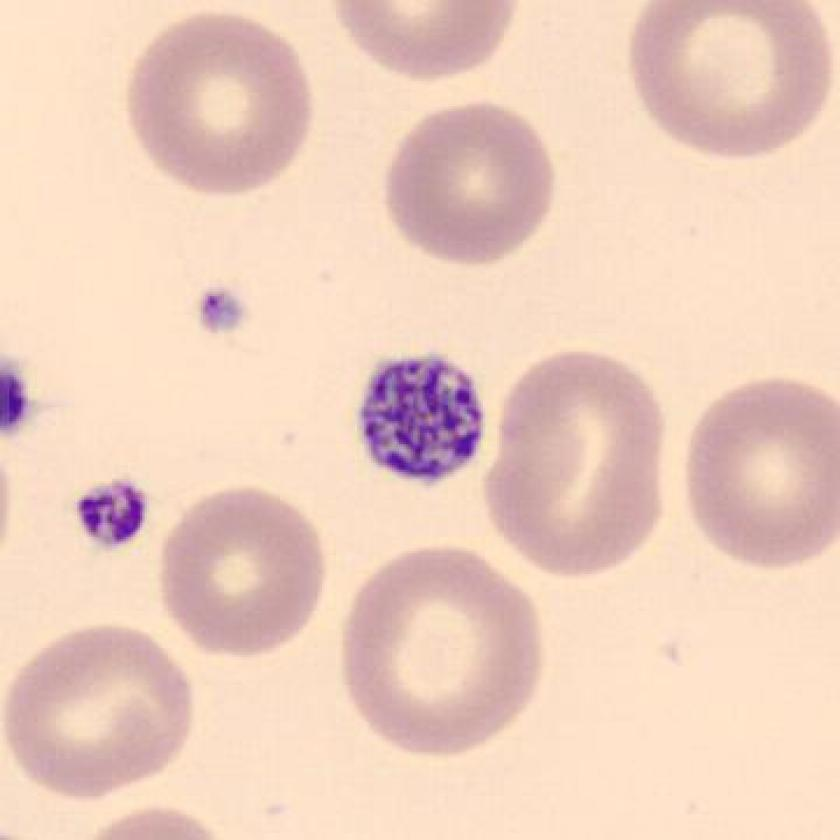platelets: (346, 344, 496, 496), (64, 469, 157, 557)
